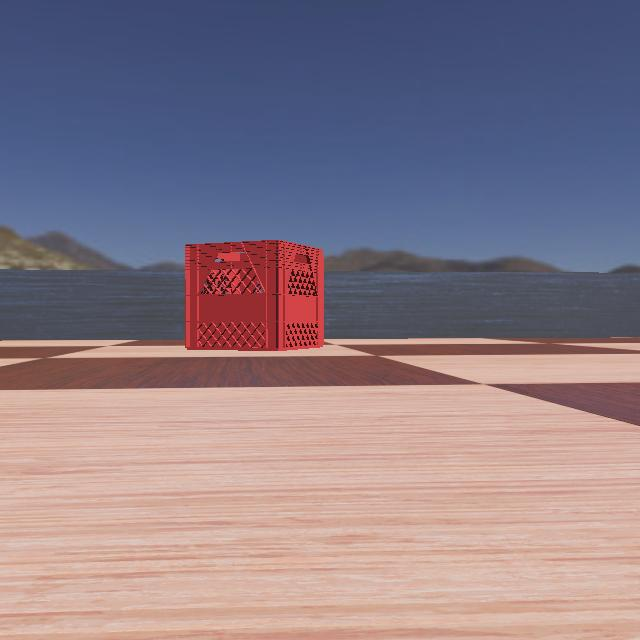plastic-crate: (176, 240, 324, 350)
